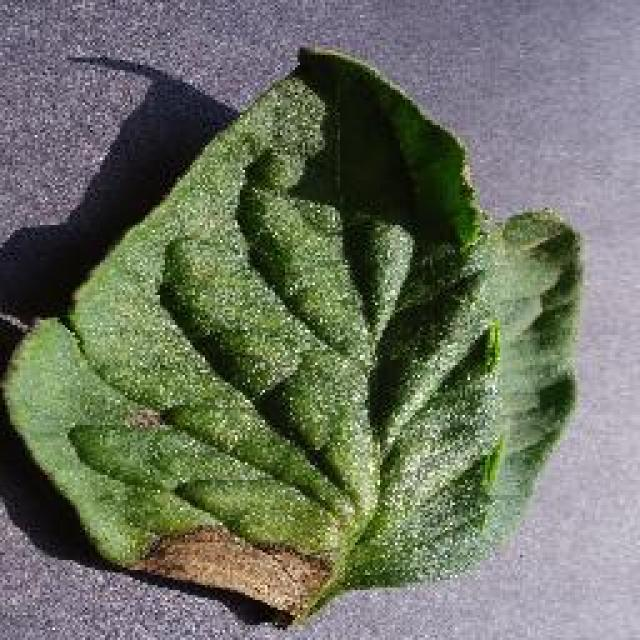Tomato Late Blight: (138, 92, 482, 588)
